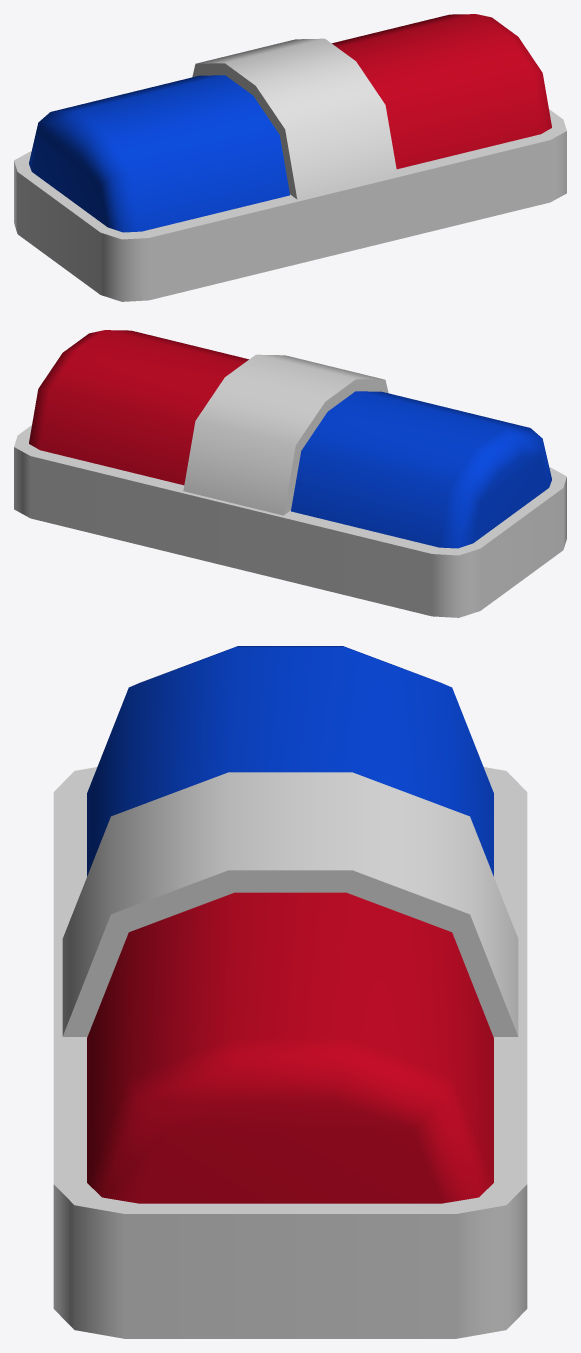
The model's file is PoliceFlickerMeshes.fbx.
3 renders of one model, top to bottom at view 1: azimuth 30°, elevation 25°; view 2: azimuth 150°, elevation 25°; view 3: azimuth 270°, elevation 25°, orthographic. The views are drawn at different scales.
Visible parts, largest first — view 1: PoliceFlickerHull, PoliceFlickerColoredGlass; view 2: PoliceFlickerHull, PoliceFlickerColoredGlass; view 3: PoliceFlickerColoredGlass, PoliceFlickerHull.
Part boxes in pixels (bbox=[...]): PoliceFlickerHull: bbox=[14, 38, 566, 301]; PoliceFlickerColoredGlass: bbox=[29, 14, 551, 232]; PoliceFlickerHull: bbox=[14, 354, 566, 617]; PoliceFlickerColoredGlass: bbox=[29, 330, 551, 548]; PoliceFlickerColoredGlass: bbox=[87, 646, 493, 1203]; PoliceFlickerHull: bbox=[53, 767, 527, 1338].
Bounding box in the file's own units: 103 × 31.1 × 45.78.
